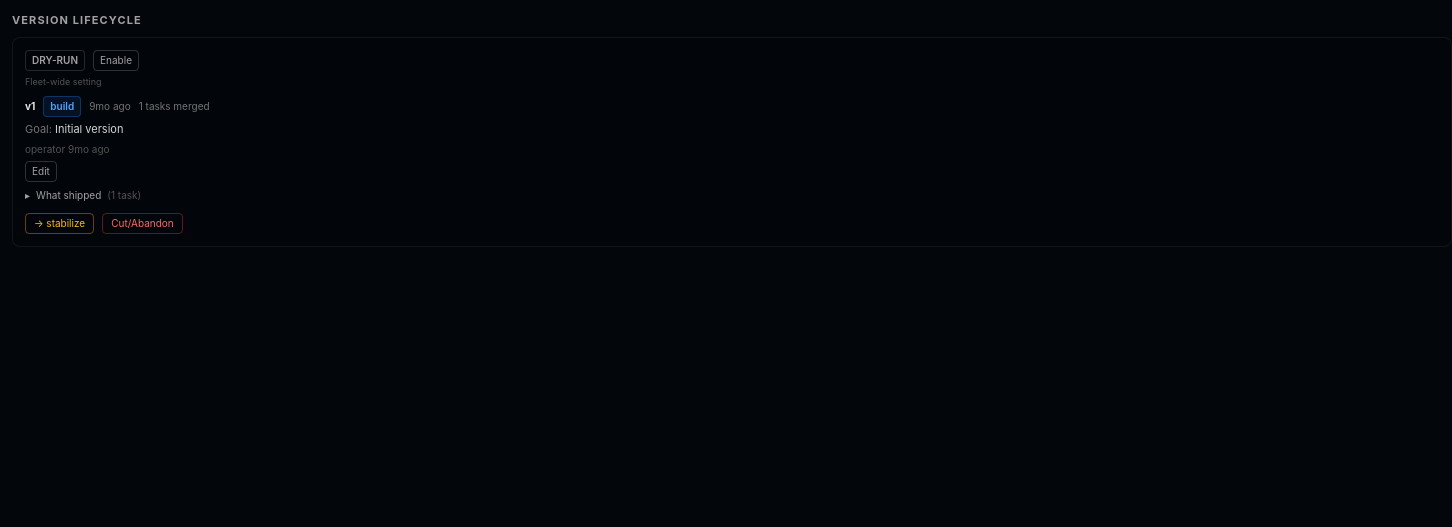
VersionLifecyclePanel › changelog toggle › renders inactive criterion audit rows from current_version criterion_coverage when active total is zero
Click the button with test id "changelog-toggle" at coordinates (83, 195), box [25, 186, 141, 204]
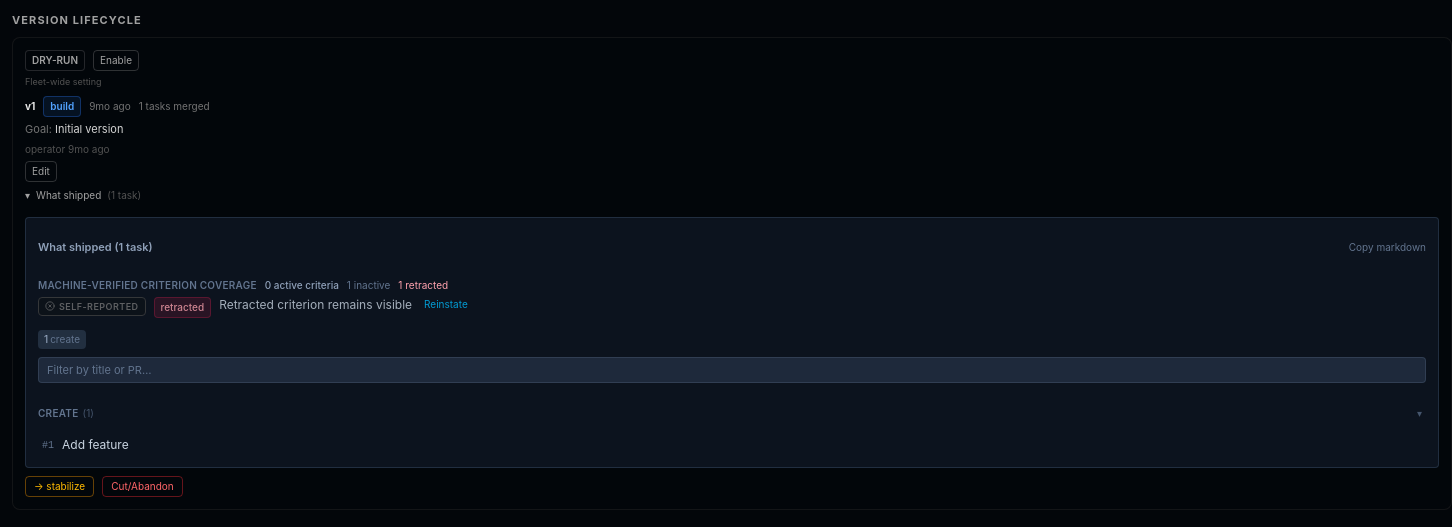
expect the list item with test id "criterion-row-inactive-k1" shows "Retracted criterion remains visible": met, box [219, 296, 412, 312]
expect the text with test id "criterion-status-inactive-k1" reads "retracted": met, box [160, 300, 204, 312]
